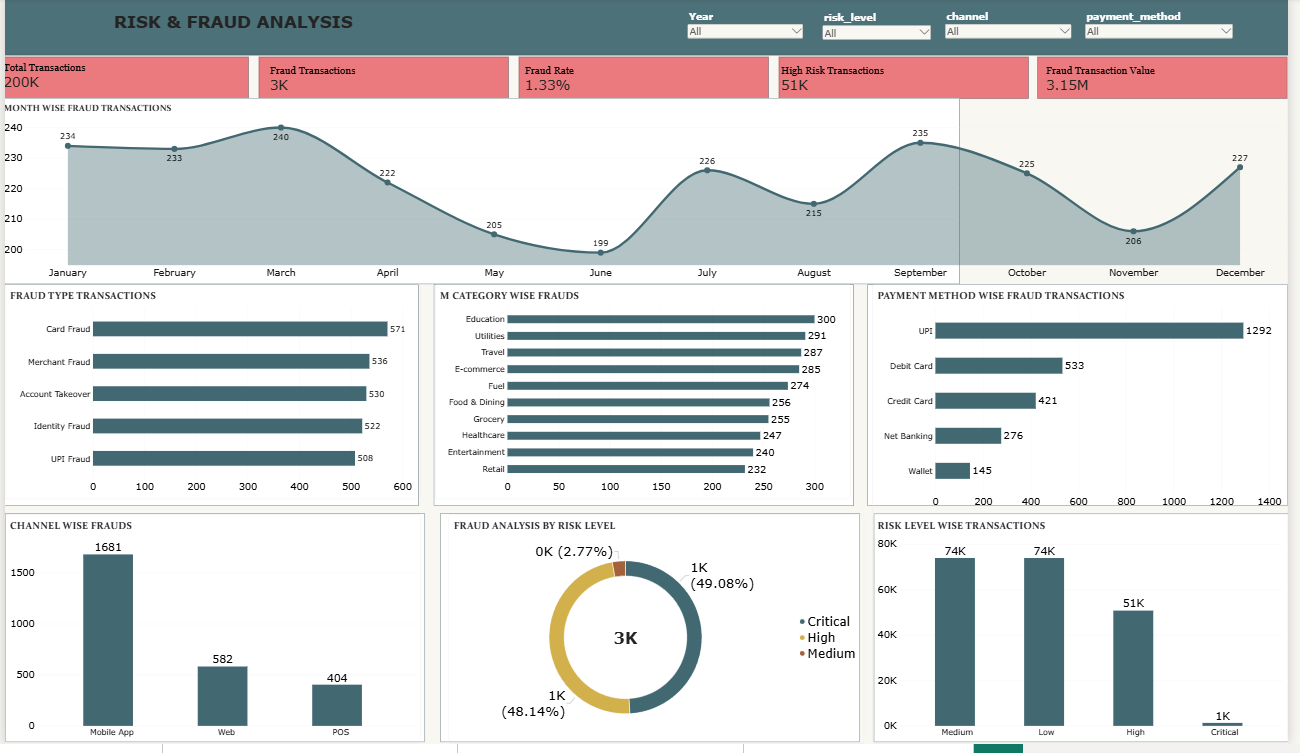

The page's visual inventory and layout, read from the dashboard file:
{"tool":"powerbi","page":{"name":"RISK & FRAUD ANALYTICS","canvas":[4300,2500],"ordinal":3},"visuals":[{"type":"group","id":"g1","title":"Group 4","box":[-20,0,4320,336],"z":0},{"type":"shape","box":[-20,0,4320,192],"z":0,"group":"g4"},{"type":"group","id":"g2","title":"Group 2","box":[-20,197.4,4320,141.3],"z":0,"group":"g7"},{"type":"shape","box":[-20,197.4,837.2,141.3],"z":0,"group":"g2"},{"type":"group","id":"g3","title":"Group 5","box":[-20,960,4320,743.2],"z":0,"group":"g6"},{"type":"shape","box":[-20,960,1407.6,743.2],"z":0,"group":"g3"},{"type":"shape","box":[0,1728,1407.6,768],"z":0,"group":"g5"},{"type":"group","id":"g4","title":"Group 1","box":[-20,0,4320,192],"z":1000,"group":"g1"},{"type":"textbox","box":[364,48,960,96],"z":1000,"group":"g4"},{"type":"shape","box":[850.7,197.4,837.2,141.3],"z":1000,"group":"g2"},{"type":"shape","box":[-16,336,3216,624],"z":1000},{"type":"shape","box":[2892.4,960,1407.6,743.2],"z":1000,"group":"g3"},{"type":"group","id":"g5","title":"Group 5","box":[0,1728,4320,768],"z":1000,"group":"g6"},{"type":"shape","box":[2912.4,1728,1407.6,768],"z":1000,"group":"g5"},{"type":"slicer","fields":{"Values":["public risk_fraud.risk_level"]},"box":[2735.9,48,372.4,96],"z":2000,"group":"g4"},{"type":"shape","box":[3462.8,197.4,837.2,141.3],"z":2000,"group":"g2"},{"type":"cardVisual","fields":{"Data":["public customers.Fraud Transactions"]},"box":[870.4,207.7,824.4,125.6],"z":2000,"group":"g7"},{"type":"lineChart","title":"MONTH WISE FRAUD TRANSACTIONS","fields":{"Category":["public transactions.transaction_date.Variation.Date Hierarchy.Month"],"Y":["public customers.Fraud Transactions"]},"box":[-20,336,4320,624],"z":2000},{"type":"shape","box":[1436.2,960,1407.6,743.2],"z":2000,"group":"g3"},{"type":"shape","box":[1456.2,1728,1407.6,768],"z":2000,"group":"g5"},{"type":"slicer","fields":{"Values":["public transactions.transaction_date.Variation.Date Hierarchy.Year"]},"box":[2284,42.7,396,128],"z":3000,"group":"g4"},{"type":"cardVisual","fields":{"Data":["public customers.Total Transactions"]},"box":[-20,192,824.4,141.3],"z":3000,"group":"g7"},{"type":"shape","box":[1721.4,197.4,837.2,141.3],"z":3000,"group":"g2"},{"type":"group","id":"g6","title":"Group 6","box":[-20,960,4340,1536],"z":3000},{"type":"slicer","fields":{"Values":["public transactions.payment_method"]},"box":[3616,42.7,504,128],"z":4000,"group":"g4"},{"type":"shape","box":[2592.1,197.4,837.2,141.3],"z":4000,"group":"g2"},{"type":"cardVisual","fields":{"Data":["public customers.Fraud Rate"]},"box":[1727.8,207.7,824.4,125.6],"z":4000,"group":"g7"},{"type":"clusteredBarChart","title":"PAYMENT METHOD WISE FRAUD TRANSACTIONS","fields":{"Category":["public transactions.payment_method"],"Y":["public customers.Fraud Transactions"]},"box":[2908,960,1392,768],"z":4000},{"type":"slicer","fields":{"Values":["public transactions.channel"]},"box":[3148,42.7,432,106.7],"z":5000,"group":"g4"},{"type":"cardVisual","fields":{"Data":["public customers.High Risk Transactions"]},"box":[2585.2,207.7,824.4,125.6],"z":5000,"group":"g7"},{"type":"clusteredColumnChart","title":"CHANNEL WISE FRAUDS","fields":{"Category":["public transactions.channel"],"Y":["public customers.Fraud Transactions"]},"box":[0,1728,1392,768],"z":5000},{"type":"cardVisual","fields":{"Data":["public customers.Fraud Transaction Value"]},"box":[3475.6,207.7,824.4,125.6],"z":6000,"group":"g7"},{"type":"clusteredBarChart","title":"M CATEGORY WISE FRAUDS","fields":{"Category":["public merchants.merchant_category"],"Y":["public customers.Fraud Transactions"]},"box":[1440,960,1392,720],"z":6000},{"type":"group","id":"g7","title":"Group 3","box":[-20,192,4320,144],"z":6001,"group":"g1"},{"type":"donutChart","title":"FRAUD ANALYSIS BY RISK LEVEL","fields":{"Y":["public customers.Fraud Transactions"],"Category":["public risk_fraud.risk_level"]},"box":[1488,1728,1392,768],"z":7000},{"type":"clusteredColumnChart","title":"RISK LEVEL WISE TRANSACTIONS","fields":{"Category":["public risk_fraud.risk_level"],"Y":["public customers.Total Transactions"]},"box":[2908,1728,1392,768],"z":8000},{"type":"clusteredBarChart","title":"FRAUD TYPE TRANSACTIONS","fields":{"Category":["public risk_fraud.fraud_type"],"Y":["public customers.Fraud Transactions"]},"box":[0,960,1392,720],"z":9000}]}

Visuals, with their boxes in screenshot pixels (x1, y1, x2, y2), scaled from the page's 4300x2500 canvas onto the 1300x753 screenshot:
"Group 4" group: select_region(0, 0, 1299, 101)
shape: select_region(0, 0, 1299, 58)
"Group 2" group: select_region(0, 59, 1299, 102)
shape: select_region(0, 59, 247, 102)
"Group 5" group: select_region(0, 289, 1299, 513)
shape: select_region(0, 289, 420, 513)
shape: select_region(0, 520, 426, 752)
"Group 1" group: select_region(0, 0, 1299, 58)
textbox: select_region(110, 14, 400, 43)
shape: select_region(257, 59, 510, 102)
shape: select_region(0, 101, 967, 289)
shape: select_region(874, 289, 1299, 513)
"Group 5" group: select_region(0, 520, 1299, 752)
shape: select_region(880, 520, 1299, 752)
slicer - public risk_fraud.risk_level: select_region(827, 14, 940, 43)
shape: select_region(1047, 59, 1299, 102)
cardVisual - public customers.Fraud Transactions: select_region(263, 63, 512, 100)
"MONTH WISE FRAUD TRANSACTIONS" lineChart: select_region(0, 101, 1299, 289)
shape: select_region(434, 289, 860, 513)
shape: select_region(440, 520, 866, 752)
slicer - public transactions.transaction_date.Variation.Date Hierarchy.Year: select_region(691, 13, 810, 51)
cardVisual - public customers.Total Transactions: select_region(0, 58, 243, 100)
shape: select_region(520, 59, 774, 102)
"Group 6" group: select_region(0, 289, 1299, 752)
slicer - public transactions.payment_method: select_region(1093, 13, 1246, 51)
shape: select_region(784, 59, 1037, 102)
cardVisual - public customers.Fraud Rate: select_region(522, 63, 772, 100)
"PAYMENT METHOD WISE FRAUD TRANSACTIONS" clusteredBarChart: select_region(879, 289, 1299, 520)
slicer - public transactions.channel: select_region(952, 13, 1082, 45)
cardVisual - public customers.High Risk Transactions: select_region(782, 63, 1031, 100)
"CHANNEL WISE FRAUDS" clusteredColumnChart: select_region(0, 520, 421, 752)
cardVisual - public customers.Fraud Transaction Value: select_region(1051, 63, 1299, 100)
"M CATEGORY WISE FRAUDS" clusteredBarChart: select_region(435, 289, 856, 506)
"Group 3" group: select_region(0, 58, 1299, 101)
"FRAUD ANALYSIS BY RISK LEVEL" donutChart: select_region(450, 520, 871, 752)
"RISK LEVEL WISE TRANSACTIONS" clusteredColumnChart: select_region(879, 520, 1299, 752)
"FRAUD TYPE TRANSACTIONS" clusteredBarChart: select_region(0, 289, 421, 506)
